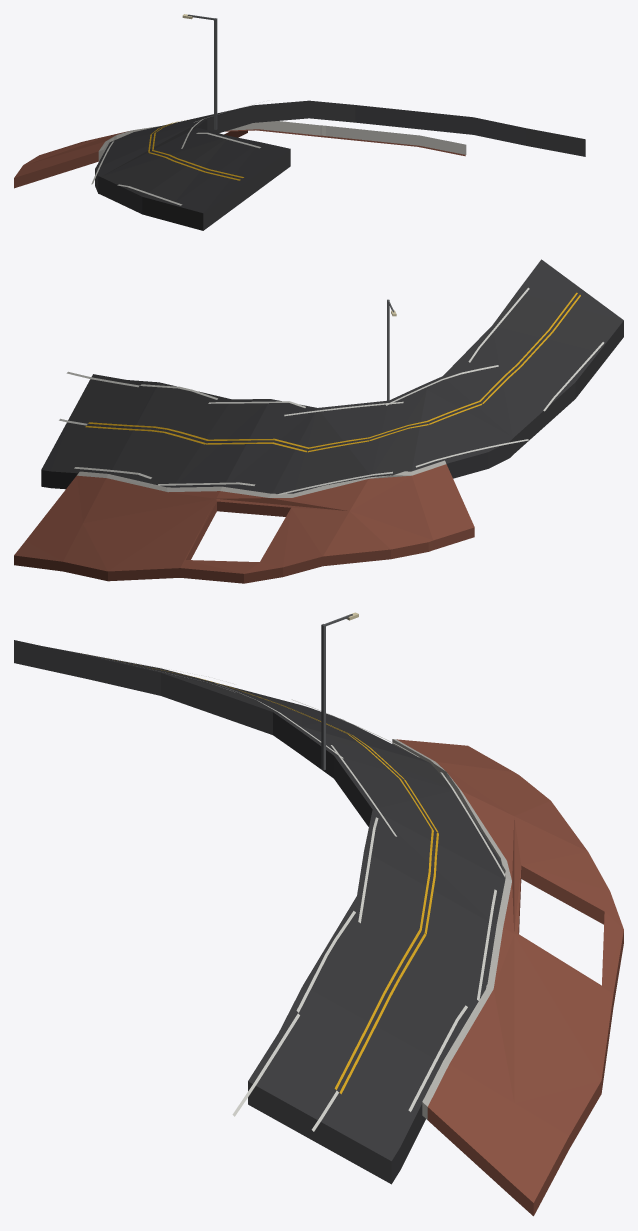
3 renders of one model, top to bottom at view 1: azimuth 30°, elevation 25°; view 2: azimuth 150°, elevation 25°; view 3: azimuth 270°, elevation 25°, orthographic. The views are drawn at different scales.
Size of the model in its own units: 36.93 by 20.23 by 28.64.
